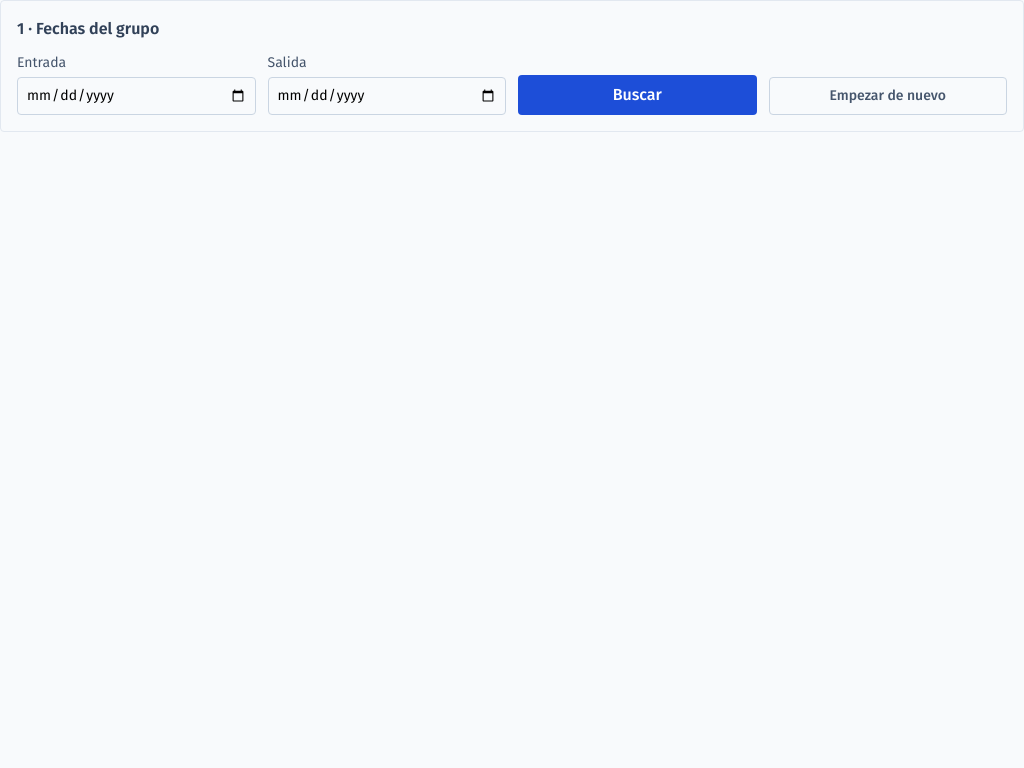
it: BulkReservation — modalidad de pago (R9.1, R9.2, decisión #339) › muestra el selector de modalidad de pago para role=reception_admin
Type "2026-10-01" into the date field labelled "Entrada" at (136, 96), box [17, 77, 256, 115]
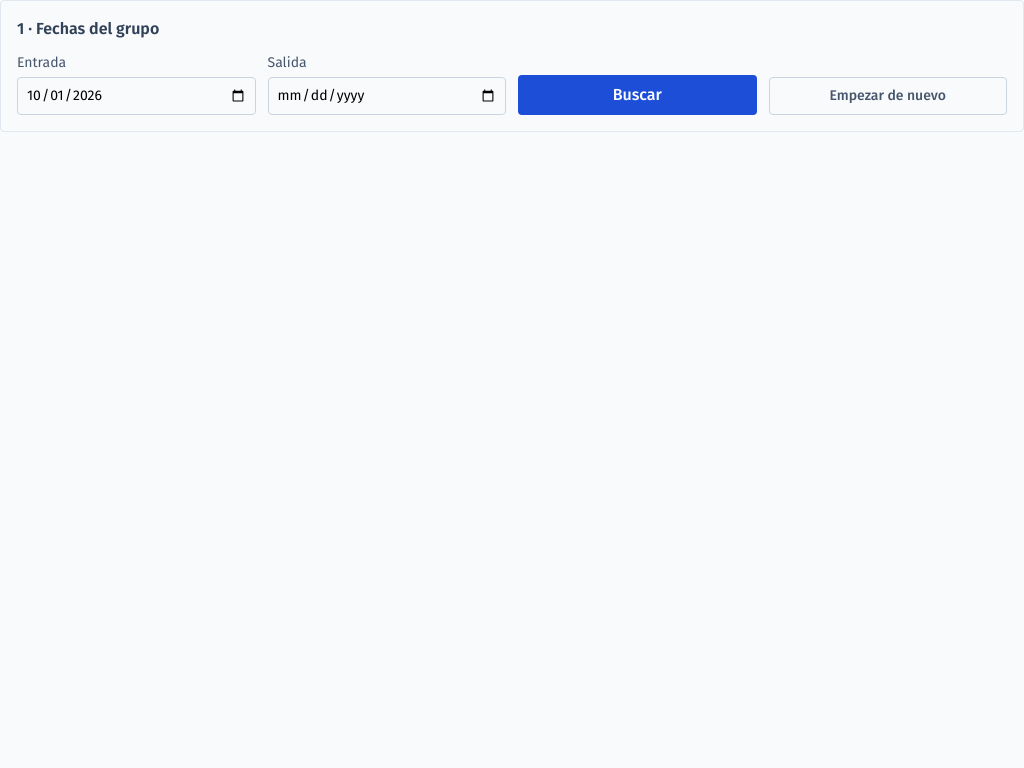
Type "2026-10-03" into the date field labelled "Salida" at (387, 96), box [268, 77, 506, 115]
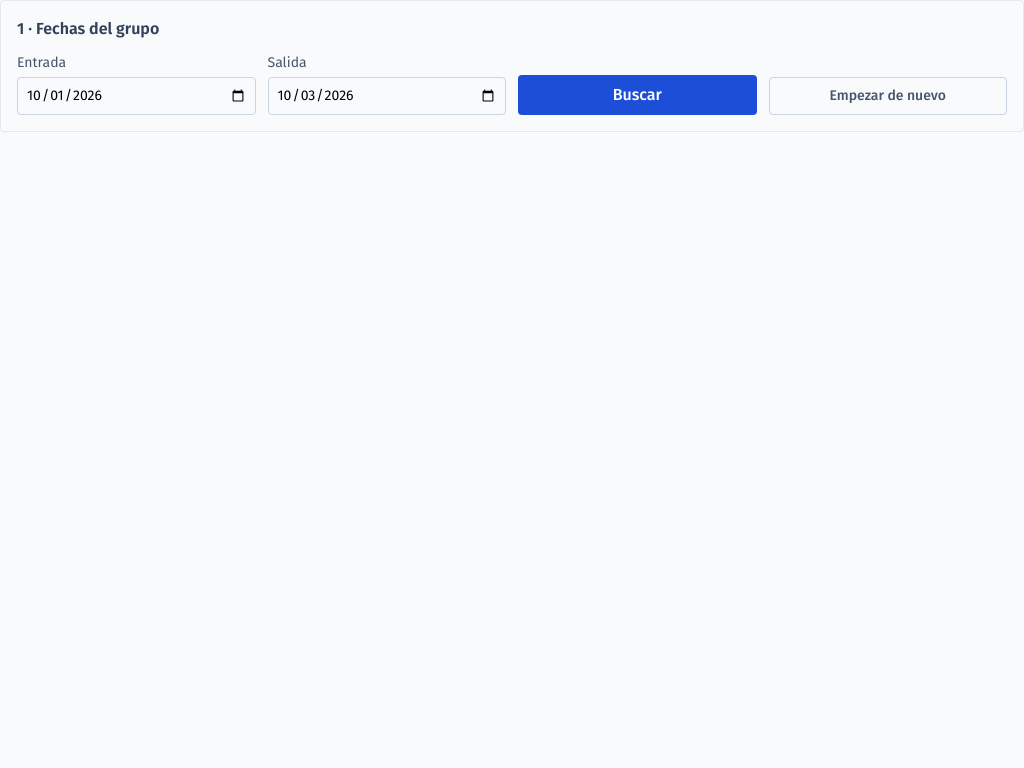
Click the button "Buscar" at (637, 95), box [518, 75, 756, 115]
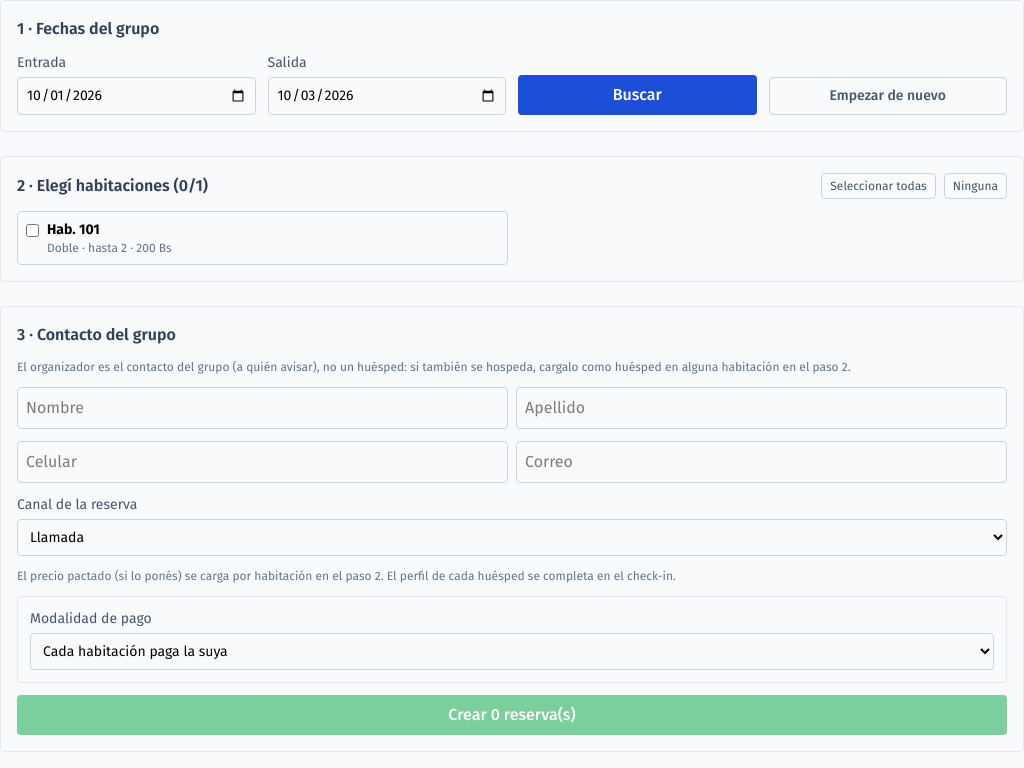
Expected: the text "Hab. 101" is shown, [47, 221, 100, 238]
Expected: the dropdown labelled "Modalidad de pago" is shown, [30, 633, 994, 670]
